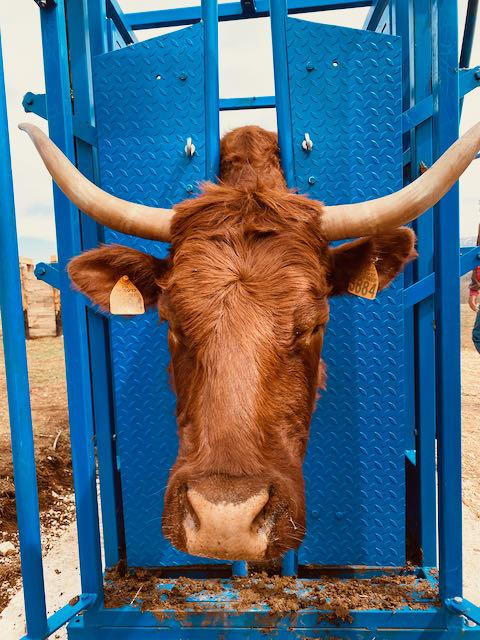muzzles: (159, 481, 312, 563)
